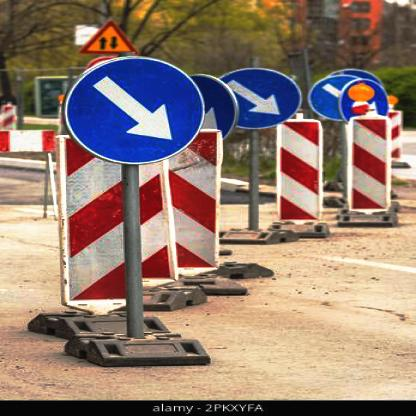Keep right: (66, 55, 208, 165), (218, 67, 301, 131)
